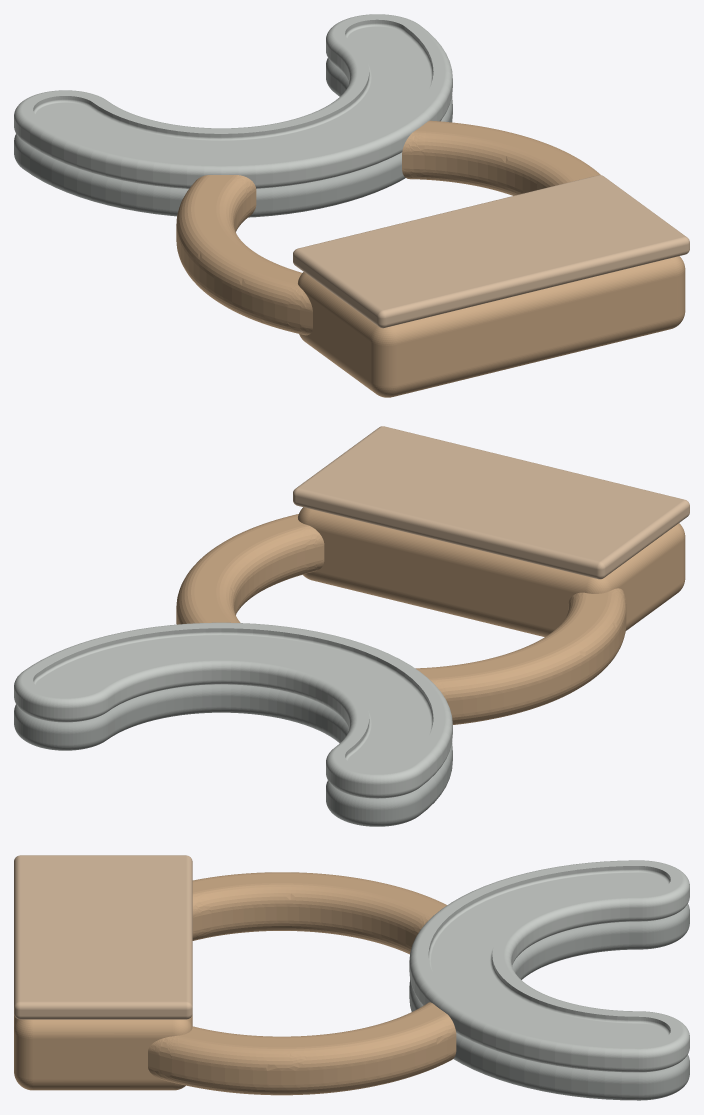
Rendered from bitebud-concept-v1.glb.
3 views of the same model, one above another, from view 1: azimuth 30°, elevation 25°; view 2: azimuth 150°, elevation 25°; view 3: azimuth 270°, elevation 25° (orthographic).
Visible parts, largest first — view 1: 03_loop_with_board_housing, 02_mouthguard_cover, 09_loop_housing_lid, 01_mouthguard_lower_shell; view 2: 03_loop_with_board_housing, 02_mouthguard_cover, 09_loop_housing_lid, 01_mouthguard_lower_shell; view 3: 03_loop_with_board_housing, 02_mouthguard_cover, 09_loop_housing_lid, 01_mouthguard_lower_shell.
Boxes of the visible parts, <box> form: 03_loop_with_board_housing: <box>176,120,685,397</box>; 02_mouthguard_cover: <box>14,14,452,188</box>; 09_loop_housing_lid: <box>293,175,689,328</box>; 01_mouthguard_lower_shell: <box>14,58,452,217</box>; 03_loop_with_board_housing: <box>176,507,685,724</box>; 02_mouthguard_cover: <box>14,622,452,798</box>; 09_loop_housing_lid: <box>293,426,689,579</box>; 01_mouthguard_lower_shell: <box>14,684,452,826</box>; 03_loop_with_board_housing: <box>14,872,456,1095</box>; 02_mouthguard_cover: <box>409,860,689,1072</box>; 09_loop_housing_lid: <box>14,855,192,1019</box>; 01_mouthguard_lower_shell: <box>409,904,689,1100</box>.
Bounding box in the file's own units: 0.072 × 0.016 × 0.106.
